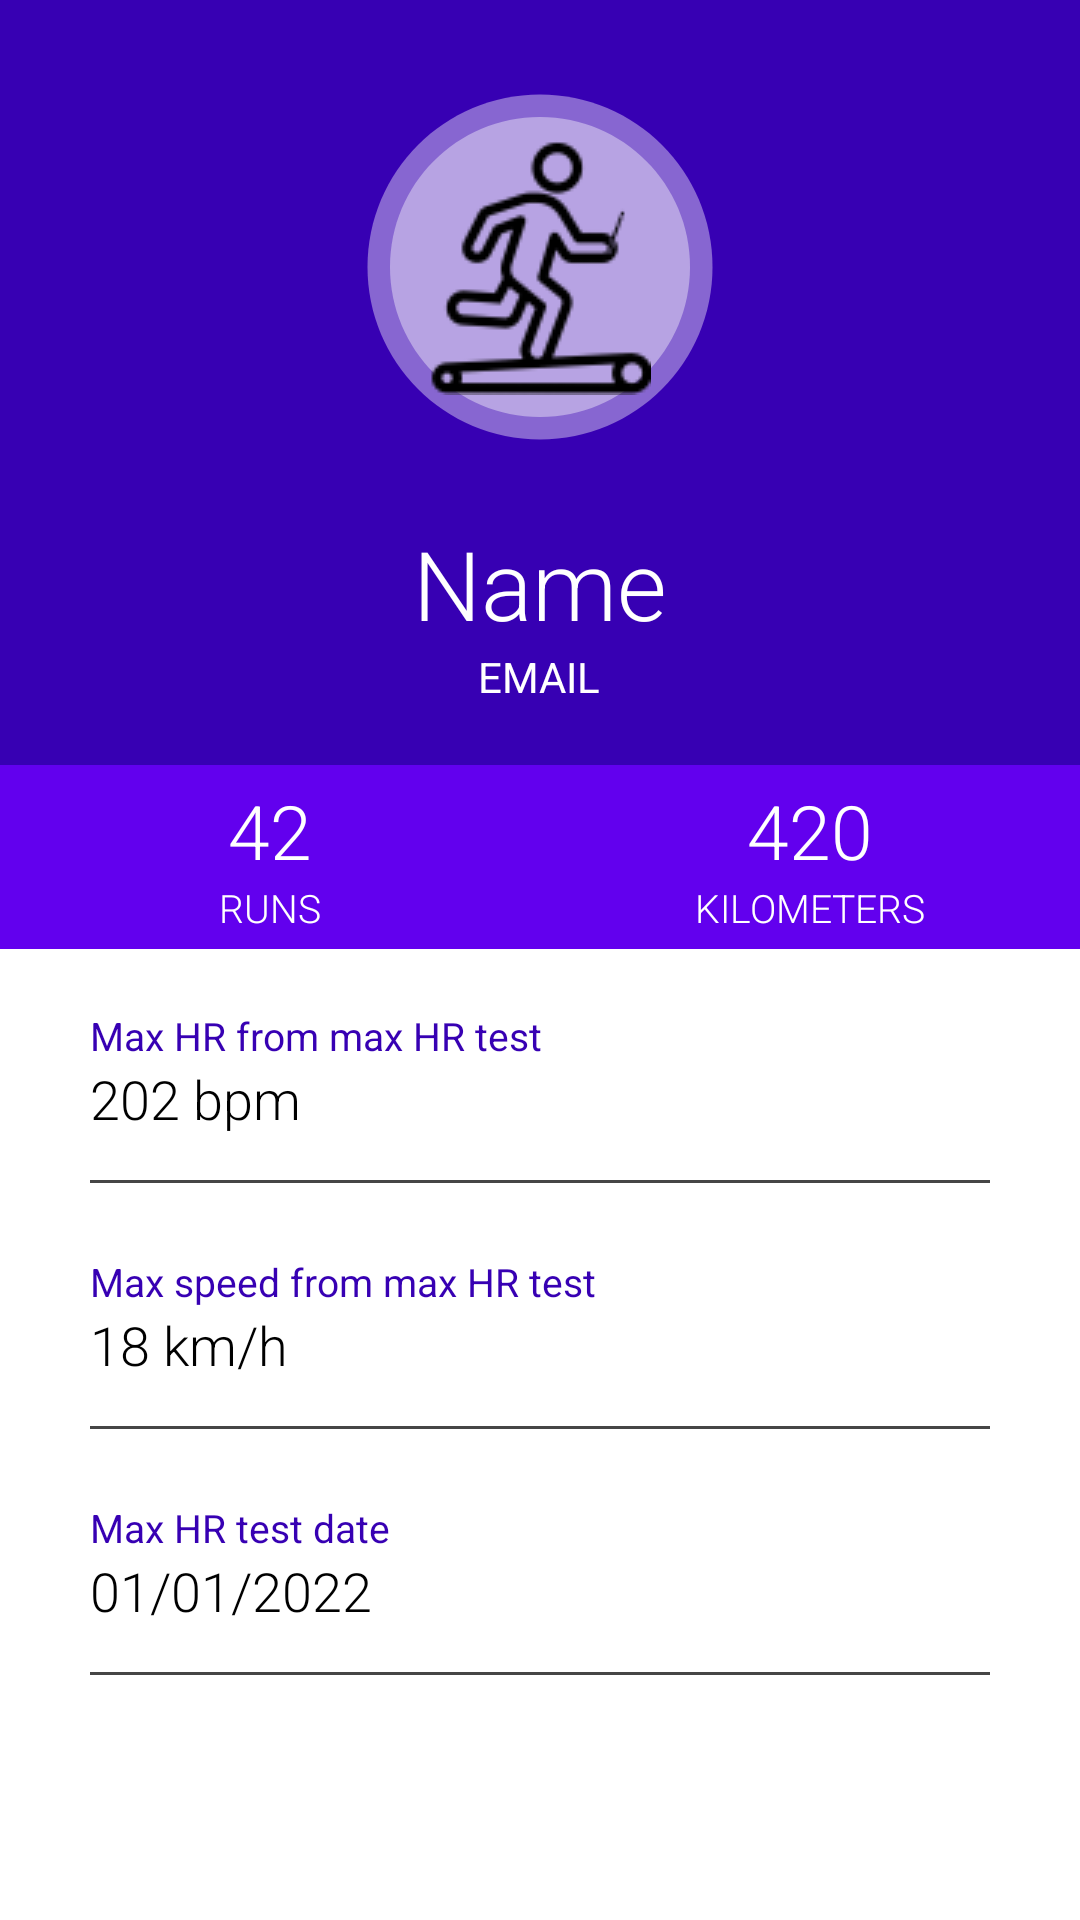

Icons on this 1080 × 1920 Android screen, each with the point to tap as [x,y]:
treadmill: [540,267]
